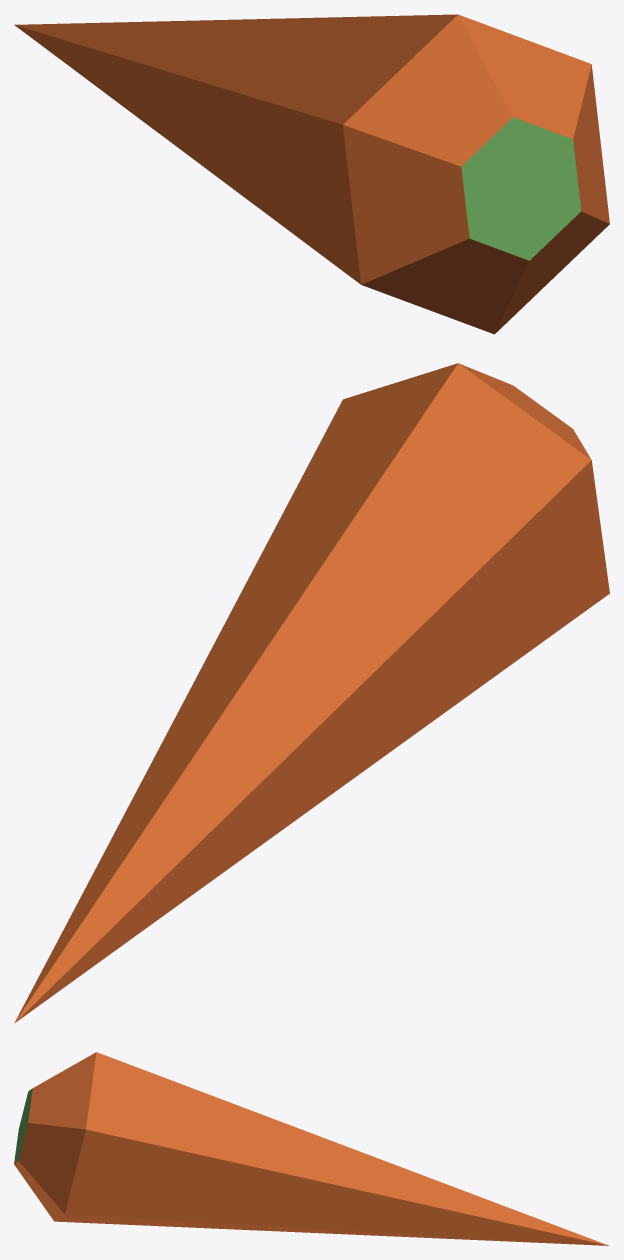
Rendered from food3.fbx.
3 renders of one model, top to bottom at view 1: azimuth 30°, elevation 25°; view 2: azimuth 150°, elevation 25°; view 3: azimuth 270°, elevation 25°, orthographic. The views are drawn at different scales.
Parts seen in each view (by area): view 1: Cone; view 2: Cone; view 3: Cone.
Part boxes in pixels (x1,y1,x2,y2): Cone: (14, 14, 609, 334); Cone: (14, 363, 609, 1023); Cone: (14, 1052, 609, 1245).
Bounding box in the file's own units: 11.05 × 14.24 × 39.65.
